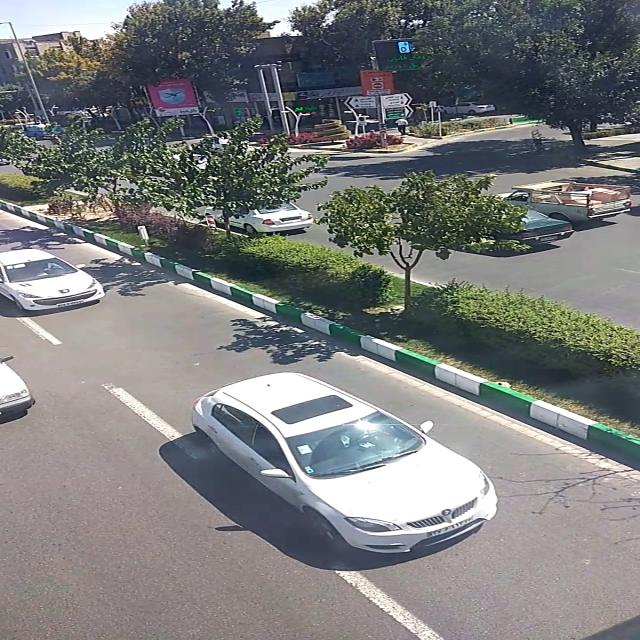car: (188, 371, 498, 553), (0, 249, 103, 311), (490, 181, 632, 219), (208, 203, 316, 231), (514, 208, 572, 242), (440, 103, 502, 113)
